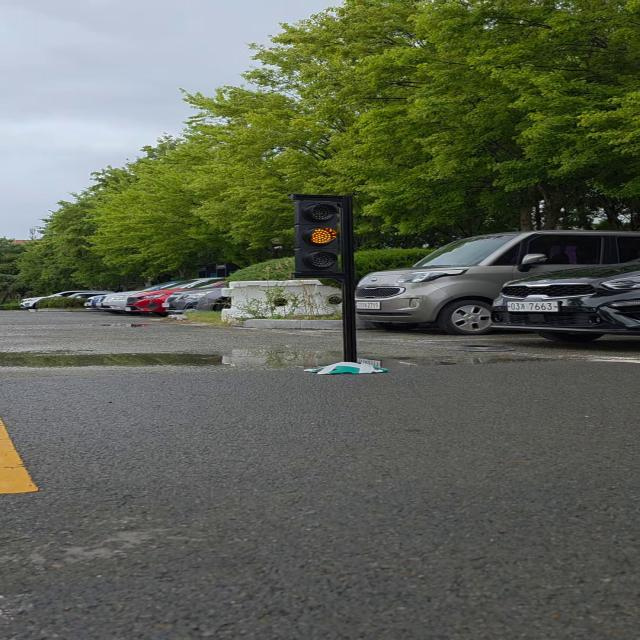yellow: (286, 191, 355, 277)
